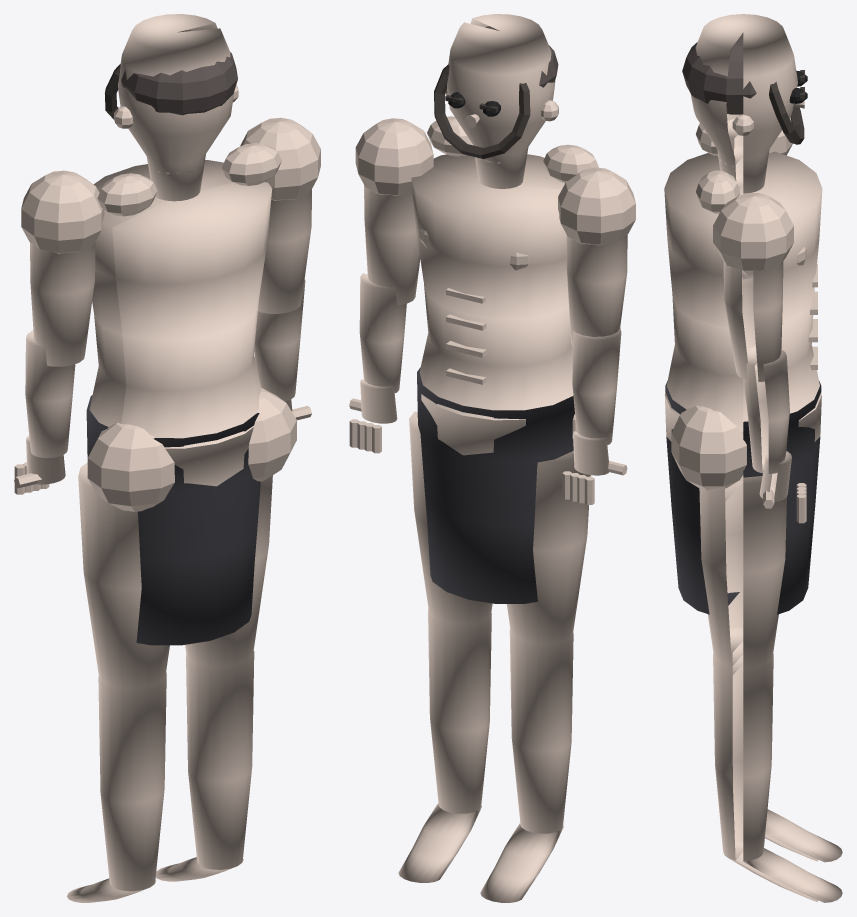
File: CHR_BaseBody_Male_A01.glb
3 renders of one model, left to right at view 1: azimuth 30°, elevation 25°; view 2: azimuth 150°, elevation 25°; view 3: azimuth 270°, elevation 25°, orthographic. The views are drawn at different scales.
Parts seen in each view (by area): view 1: zone_BACK_UPPER, underwear_boxers, zone_BACK_LOWER, zone_CALF_R, zone_CALF_L, char_head, zone_THIGH_L, zone_UPPER_ARM_L, zone_GLUTE_L, zone_SHOULDER_L, zone_UPPER_ARM_R, zone_FOREARM_L (+13 smaller); view 2: underwear_boxers, zone_CHEST_UPPER, zone_CHEST_LOWER, char_head, zone_CALF_L, zone_CALF_R, zone_THIGH_L, zone_UPPER_ARM_L, zone_UPPER_ARM_R, zone_SHOULDER_L, zone_SHOULDER_R, zone_FOREARM_L (+11 smaller); view 3: zone_THIGH_R, char_head, underwear_boxers, zone_CALF_R, zone_BACK_UPPER, zone_BACK_LOWER, zone_CHEST_UPPER, zone_UPPER_ARM_R, zone_SHOULDER_R, zone_GLUTE_R, zone_FOREARM_R, zone_CHEST_LOWER (+9 smaller).
Part boxes in pixels (x1,y1,x2,y2): zone_BACK_UPPER: (112,182,272,339); underwear_boxers: (86,395,260,645); zone_BACK_LOWER: (121,302,261,448); zone_CALF_R: (186,651,254,869); zone_CALF_L: (98,672,166,891); char_head: (118,14,234,201); zone_THIGH_L: (78,462,169,687); zone_UPPER_ARM_L: (30,242,95,366); zone_GLUTE_L: (87,422,174,511); zone_SHOULDER_L: (21,170,104,253); zone_UPPER_ARM_R: (258,189,311,313); zone_FOREARM_L: (25,330,75,457); underwear_boxers: (417,367,574,603); zone_CHEST_UPPER: (411,168,568,317); zone_CHEST_LOWER: (419,283,573,420); char_head: (447,14,555,188); zone_CALF_L: (509,629,573,833); zone_CALF_R: (428,609,491,813); zone_THIGH_L: (506,451,590,643); zone_UPPER_ARM_L: (566,234,627,347); zone_UPPER_ARM_R: (364,185,420,305); zone_SHOULDER_L: (558,167,635,245); zone_SHOULDER_R: (355,118,433,195); zone_FOREARM_L: (572,328,621,445); zone_THIGH_R: (699,475,786,675); char_head: (690,14,797,193); underwear_boxers: (665,381,821,614); zone_CALF_R: (713,641,773,861); zone_BACK_UPPER: (664,153,743,326); zone_BACK_LOWER: (665,294,743,431); zone_CHEST_UPPER: (717,151,822,321); zone_UPPER_ARM_R: (723,261,783,381); zone_SHOULDER_R: (713,193,793,275); zone_GLUTE_R: (671,405,746,490); zone_FOREARM_R: (743,346,789,473); zone_CHEST_LOWER: (743,294,821,421).
Bounding box in the file's own units: 0.634 × 1.83 × 0.352.
